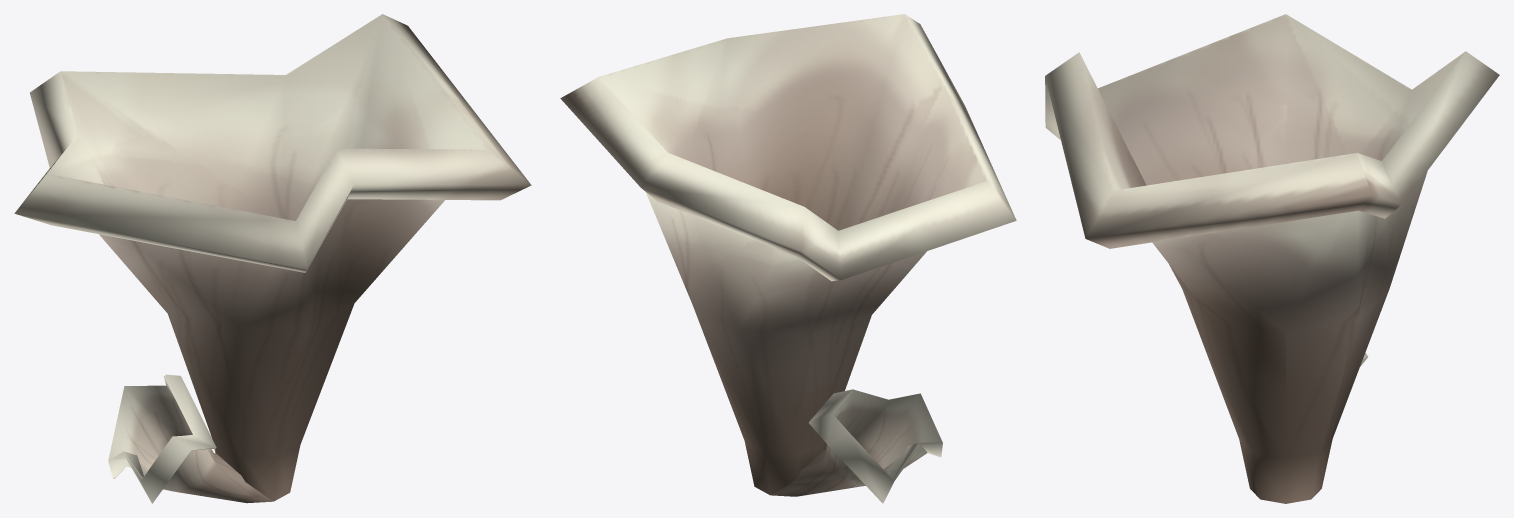
File: JamurAngelWings.fbx
3 views of the same model, side by side, from view 1: azimuth 30°, elevation 25°; view 2: azimuth 150°, elevation 25°; view 3: azimuth 270°, elevation 25° (orthographic). The views are drawn at different scales.
Parts seen in each view (by area): view 1: namanya apa?.002; view 2: namanya apa?.002; view 3: namanya apa?.002.
Part boxes in pixels (box(x1,y1,x2,y2)): namanya apa?.002: box(14, 14, 531, 503); namanya apa?.002: box(560, 14, 1016, 503); namanya apa?.002: box(1045, 14, 1499, 503).
Bounding box in the file's own units: 51.67 × 47.72 × 46.08.
